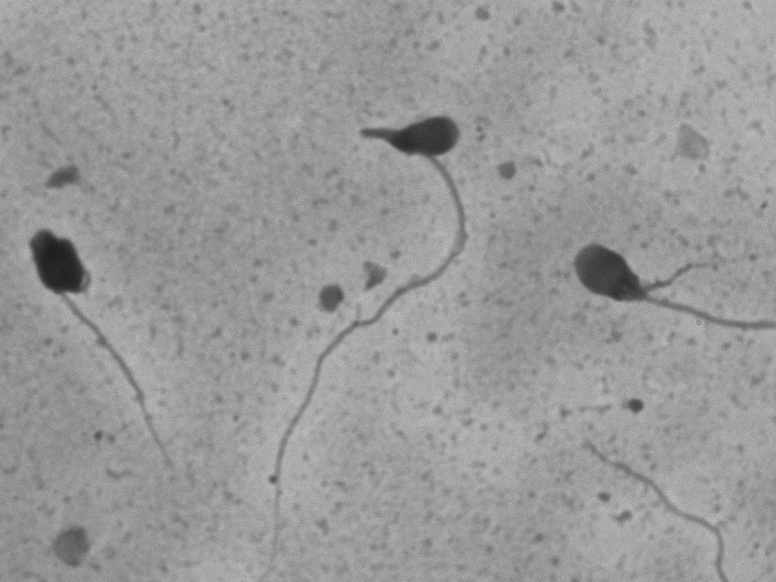Abnormal: (275, 91, 530, 483), (5, 209, 222, 487), (559, 201, 759, 405)
